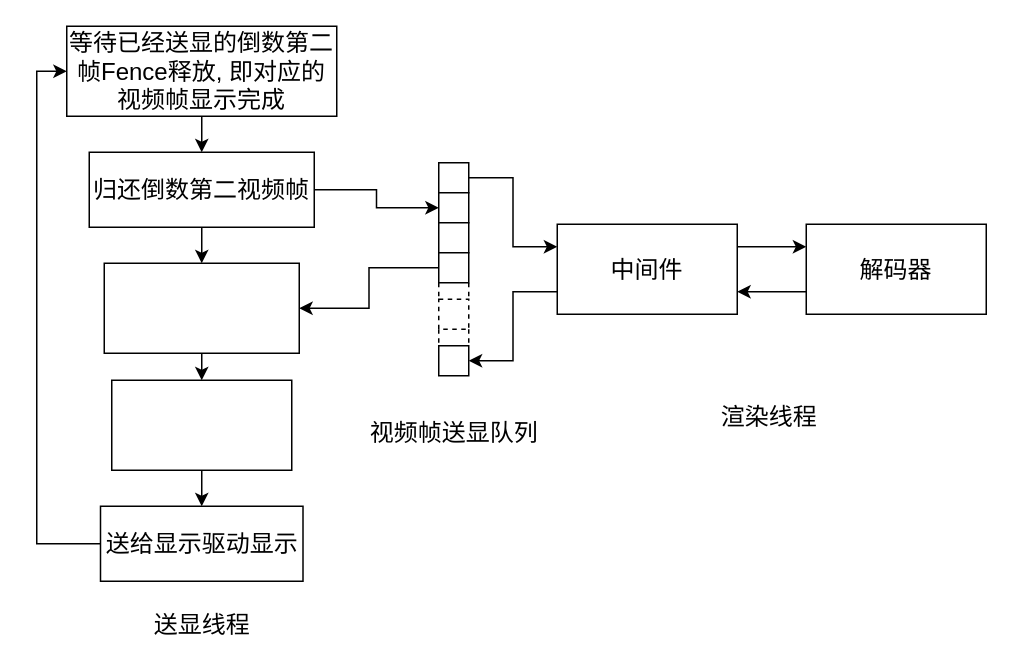
Some shapes in this 1013 by 666 pixel diagram are drawn without their labels. The centre of each missing label's shape, as x and y in pixels:
从视频帧送显队列中获取符合 Δt >1/2t D 的视频帧: the point at 201,307
创建与上述视频帧对应的Fence: the point at 201,424
